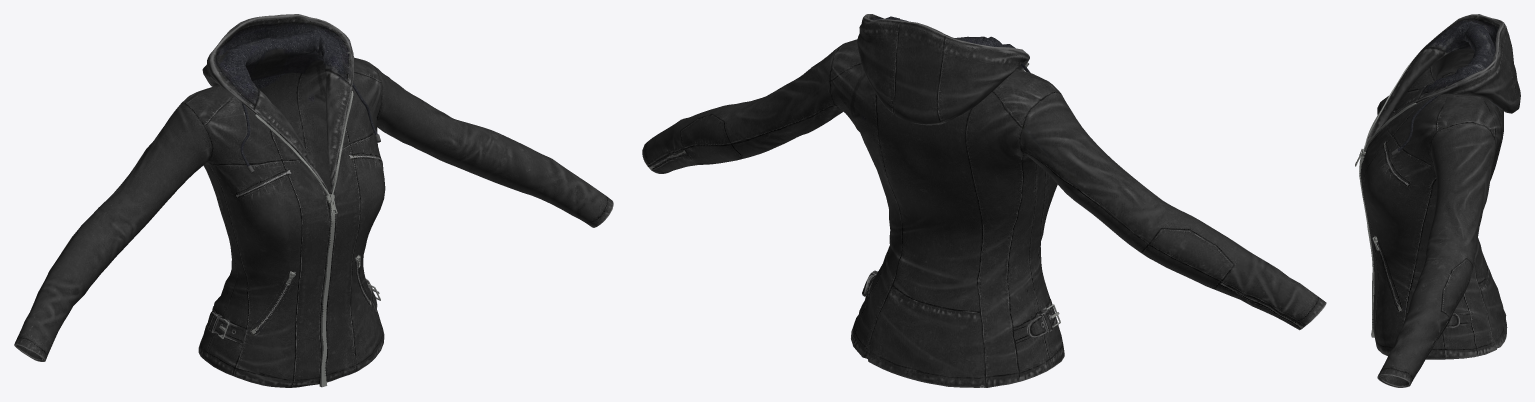
File: leather_jacket.glb
3 renders of one model, left to right at view 1: azimuth 30°, elevation 25°; view 2: azimuth 150°, elevation 25°; view 3: azimuth 270°, elevation 25°, orthographic. The views are drawn at different scales.
Parts seen in each view (by area): view 1: jacket_low, zipper_teeth_low; view 2: jacket_low; view 3: jacket_low, zipper_teeth_low.
Part boxes in pixels (x1,y1,x2,y2): jacket_low: (14, 14, 613, 387); zipper_teeth_low: (255, 91, 353, 387); jacket_low: (642, 14, 1326, 387); jacket_low: (1360, 14, 1520, 387); zipper_teeth_low: (1359, 61, 1416, 337).
Size of the model in its own units: 5.24 by 2.7 by 1.32.
Materials: 1 (1 with a texture image).
